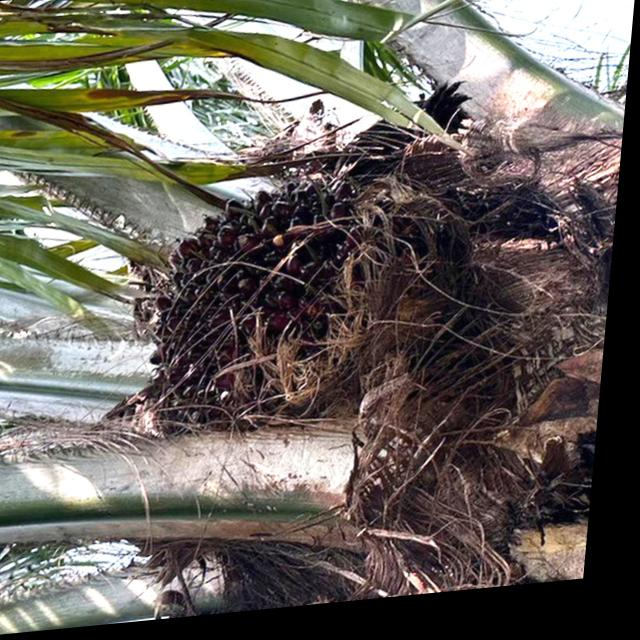ripe: (128, 170, 379, 422)
